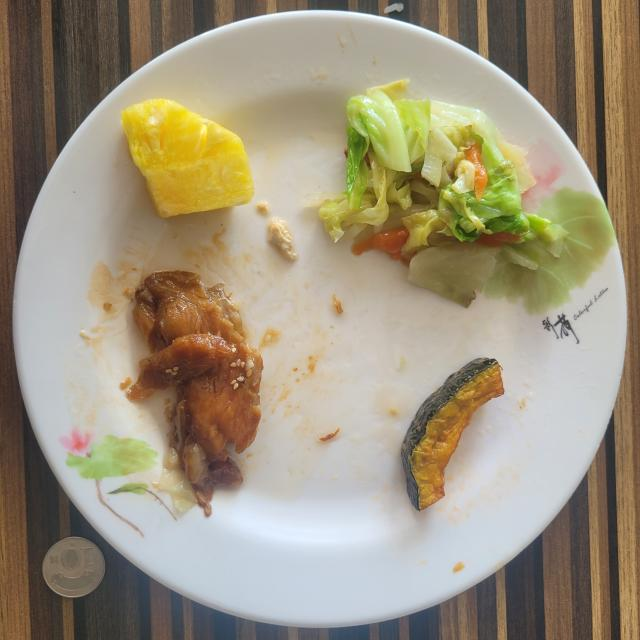Kabayaki sea bream fillet: (126, 271, 262, 516)
cabbage: (319, 80, 568, 306)
coin: (42, 536, 105, 598)
pineapple: (121, 99, 254, 218)
pumpkin: (401, 358, 504, 510)
